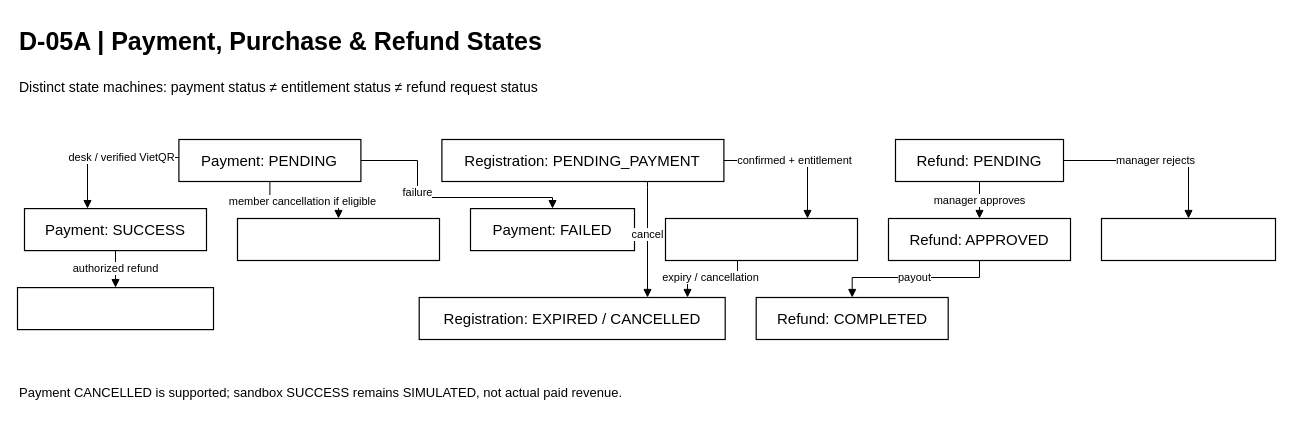
Image size: 1295x433. Some labels were removed from this diagram. The centre of each missing label's shape, as x and y in pixels:
"Payment: CANCELLED" goes at point 338,239.
"Payment: REFUNDED" goes at point 115,308.
"Refund: REJECTED" goes at point 1188,239.
"Registration: ACTIVE" goes at point 761,239.
